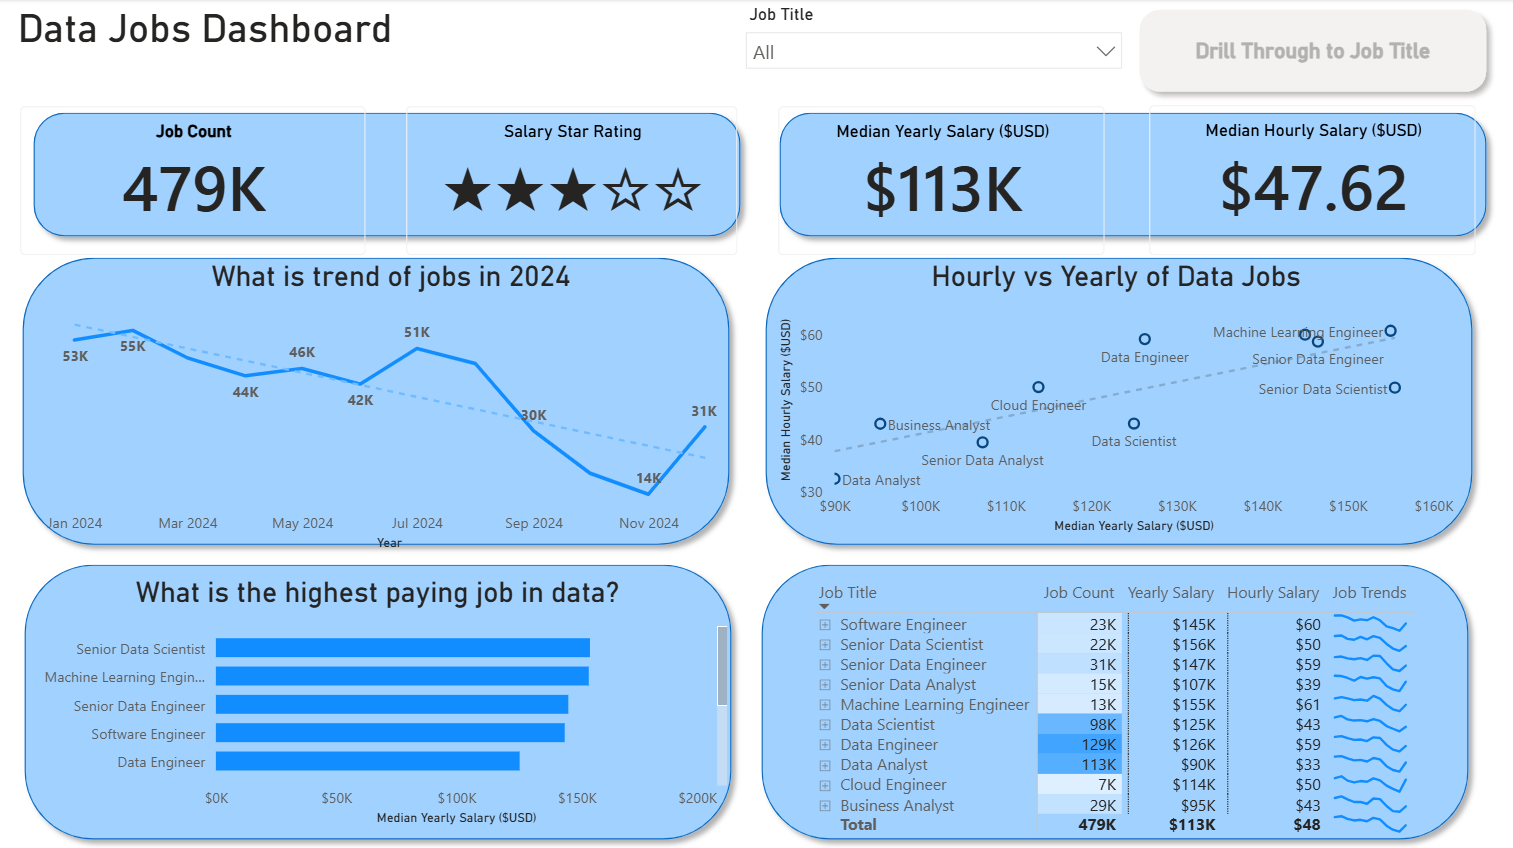

What the dashboard file says about the page in this screenshot:
{"tool":"powerbi","page":{"name":"Data Jobs Dashboard","canvas":[1280,720],"ordinal":0},"visuals":[{"type":"textbox","box":[10.2,0,630.5,72.8],"z":0},{"type":"shape","box":[19.5,87.3,615.2,122.5],"z":0,"group":"g1"},{"type":"group","id":"g1","title":"Background","box":[10.4,87.3,1255.2,632.2],"z":1000},{"type":"shape","box":[650.4,87.3,615.2,122.5],"z":1000,"group":"g1"},{"type":"slicer","title":"Job Title","fields":{"Values":["job_postings_flat.job_title_short"]},"box":[620.1,0,338.4,87.3],"z":2000},{"type":"shape","box":[10.4,209.8,615.2,260.7],"z":2000,"group":"g1"},{"type":"cardVisual","fields":{"Data":["Median(job_postings_flat.salary_year_avg)"]},"box":[640.9,73.3,310.8,160.7],"z":3000},{"type":"shape","box":[634.8,469.2,615.2,250.3],"z":3000,"group":"g1"},{"type":"cardVisual","fields":{"Data":["job_postings_flat.Salary Star Rating"]},"box":[326.5,73.3,314.3,160.7],"z":4000},{"type":"shape","box":[11.7,469.2,615.2,250.3],"z":4000,"group":"g1"},{"type":"cardVisual","fields":{"Data":["CountNonNull(job_postings_flat.job_title_short)"]},"box":[0,73.3,326.5,160.7],"z":5000},{"type":"shape","box":[638.7,209.8,615.2,260.7],"z":5000,"group":"g1"},{"type":"cardVisual","fields":{"Data":["Median(job_postings_flat.salary_hour_avg)"]},"box":[954.1,72.7,311,161.4],"z":6000},{"type":"lineChart","title":"What is trend of jobs in 2024","fields":{"Y":["CountNonNull(job_postings_flat.job_title_short)"],"Category":["job_postings_flat.job_posted_date.Variation.Date Hierarchy.Year","job_postings_flat.job_posted_date.Variation.Date Hierarchy.Quarter","job_postings_flat.job_posted_date.Variation.Date Hierarchy.Month","job_postings_flat.job_posted_date.Variation.Date Hierarchy.Day"]},"box":[33.6,220.5,592.9,249.3],"z":7000},{"type":"clusteredBarChart","title":"What is the highest paying job in data?","fields":{"Category":["job_postings_flat.job_title_short"],"Y":["Median(job_postings_flat.salary_year_avg)"]},"box":[19.6,487.5,599.6,215.1],"z":8000},{"type":"scatterChart","title":"Hourly vs Yearly of Data Jobs","fields":{"Y":["Median(job_postings_flat.salary_hour_avg)"],"X":["Median(job_postings_flat.salary_year_avg)"],"Series":["job_postings_flat.job_title_short"]},"box":[653.6,220.5,580.1,234.9],"z":9000},{"type":"pivotTable","fields":{"Rows":["job_postings_flat.job_title_short","job_postings_flat.job_posted_date.Variation.Date Hierarchy.Quarter"],"Values":["CountNonNull(job_postings_flat.job_title_short)","Median(job_postings_flat.salary_year_avg)","Median(job_postings_flat.salary_hour_avg)","SparklineData(CountNonNull(job_postings_flat.job_title_short)_[job_postings_flat.job_posted_date.Variation.Date Hierarch"]},"box":[682.3,487.4,597.7,233.3],"z":10000},{"type":"actionButton","box":[953.9,0,310.8,87.3],"z":11000}]}

Visuals, with their boxes in screenshot pixels (x1, y1, x2, y2), scaled from the page's 1280x720 canvas onto the 1513x848 screenshot:
textbox: 12 0 757 86
shape: 23 103 750 247
"Background" group: 12 103 1496 847
shape: 769 103 1496 247
"Job Title" slicer: 733 0 1133 103
shape: 12 247 739 554
cardVisual - Median(job_postings_flat.salary_year_avg): 758 86 1125 276
shape: 750 553 1478 847
cardVisual - job_postings_flat.Salary Star Rating: 386 86 757 276
shape: 14 553 741 847
cardVisual - CountNonNull(job_postings_flat.job_title_short): 0 86 386 276
shape: 755 247 1482 554
cardVisual - Median(job_postings_flat.salary_hour_avg): 1128 86 1495 276
"What is trend of jobs in 2024" lineChart: 40 260 741 553
"What is the highest paying job in data?" clusteredBarChart: 23 574 732 828
"Hourly vs Yearly of Data Jobs" scatterChart: 773 260 1458 536
pivotTable - job_postings_flat.job_title_short x job_postings_flat.job_posted_date.Variation.Date Hierarchy.Quarter: 806 574 1512 847
actionButton: 1128 0 1495 103
